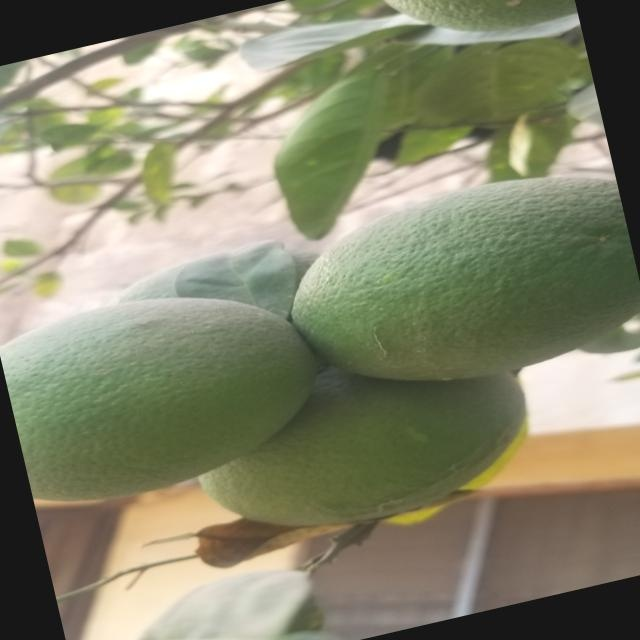agrume: (272, 152, 640, 411), (0, 246, 337, 524), (183, 338, 537, 552), (379, 0, 578, 58)
